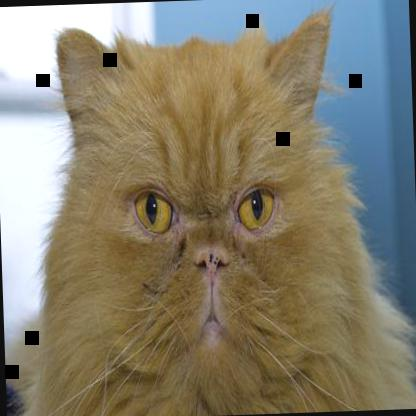cat: (15, 11, 415, 415)
